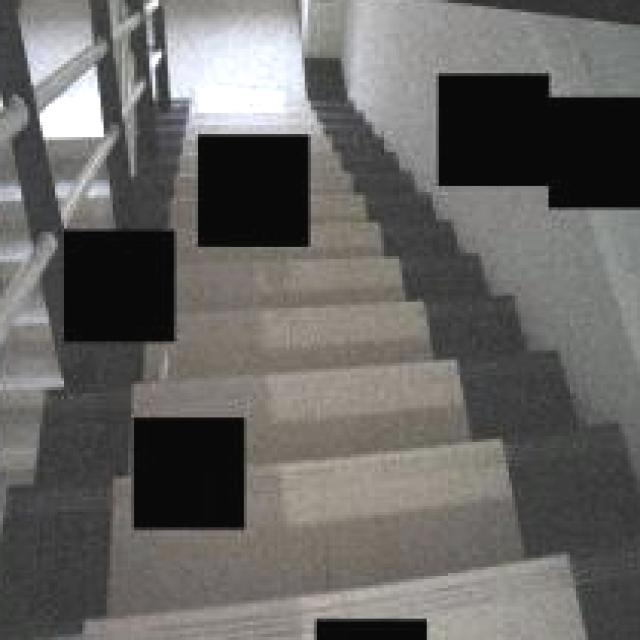downstair: (263, 285, 528, 596)
